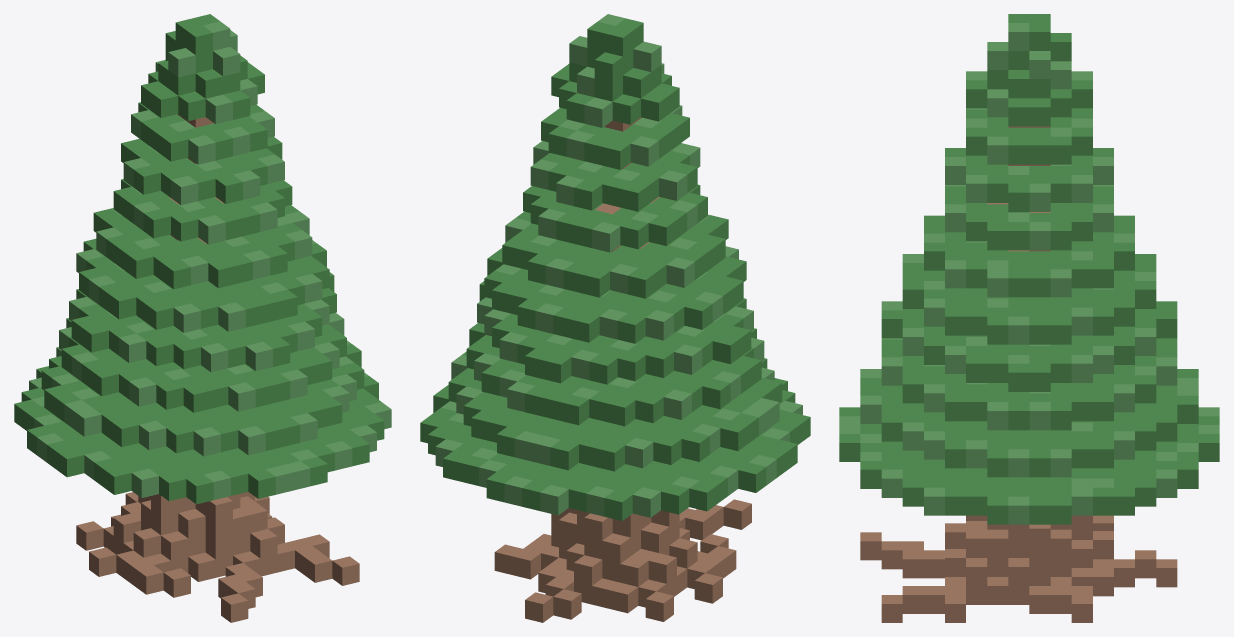
File: tree_d_v1.fbx
3 renders of one model, left to right at view 1: azimuth 30°, elevation 25°; view 2: azimuth 150°, elevation 25°; view 3: azimuth 270°, elevation 25°, orthographic. The views are drawn at different scales.
Visible parts, largest first — view 1: tree_d; view 2: tree_d; view 3: tree_d.
Part boxes in pixels (x1,y1,x2,y2): tree_d: [14, 14, 391, 622]; tree_d: [420, 14, 810, 622]; tree_d: [839, 14, 1219, 622].
Size of the model in its own units: 18 by 29 by 18.
